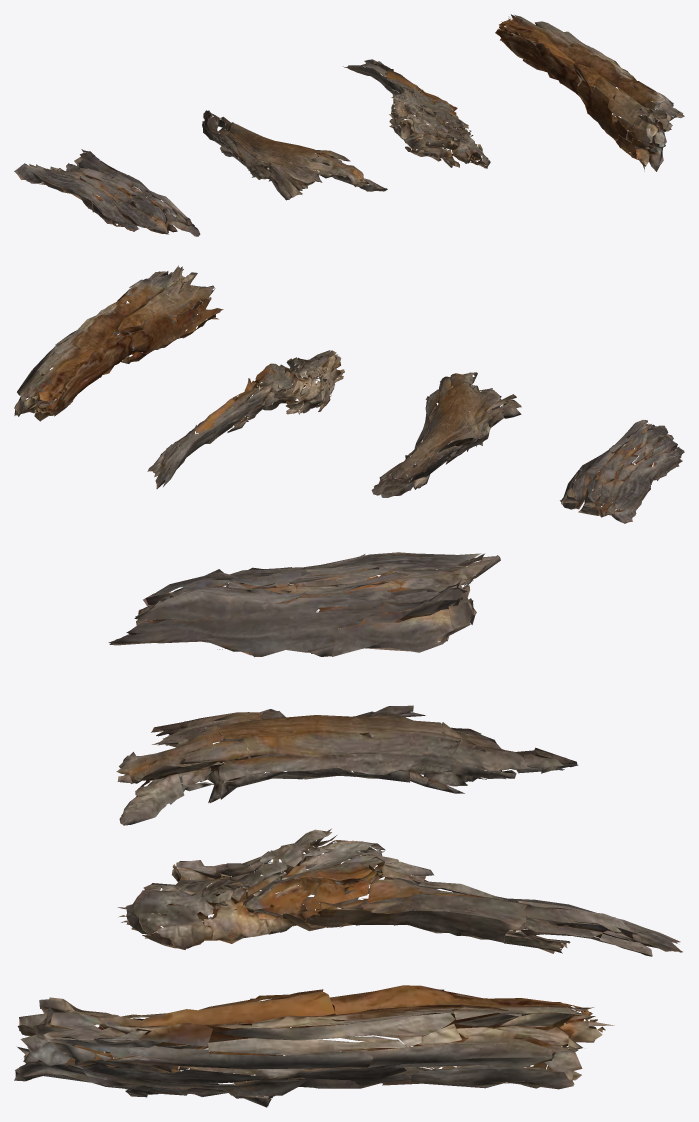
File: bark_debris_01.glb
3 renders of one model, top to bottom at view 1: azimuth 30°, elevation 25°; view 2: azimuth 150°, elevation 25°; view 3: azimuth 270°, elevation 25°, orthographic. The views are drawn at different scales.
Parts seen in each view (by area): view 1: bark_debris_01_d, bark_debris_01_a, bark_debris_01_b, bark_debris_01_c; view 2: bark_debris_01_d, bark_debris_01_b, bark_debris_01_c, bark_debris_01_a; view 3: bark_debris_01_d, bark_debris_01_c, bark_debris_01_a, bark_debris_01_b.
Boxes of the visible parts, <box> form: bark_debris_01_d: <box>495,14,684,171</box>; bark_debris_01_a: <box>14,149,200,236</box>; bark_debris_01_b: <box>202,110,387,200</box>; bark_debris_01_c: <box>343,59,490,168</box>; bark_debris_01_d: <box>14,265,223,421</box>; bark_debris_01_b: <box>371,372,521,497</box>; bark_debris_01_c: <box>147,350,344,488</box>; bark_debris_01_a: <box>560,420,684,523</box>; bark_debris_01_d: <box>14,985,614,1107</box>; bark_debris_01_c: <box>117,828,682,956</box>; bark_debris_01_a: <box>108,552,500,657</box>; bark_debris_01_b: <box>116,705,578,825</box>.
Bounding box in the file's own units: 1.21 × 0.1108 × 0.6738.
1 material, 1 textured.
